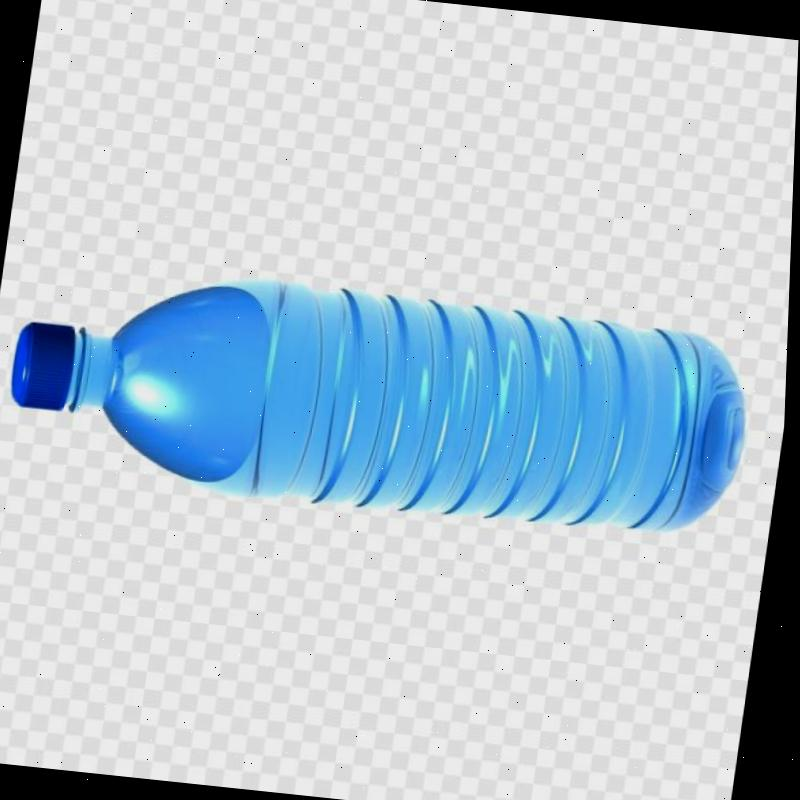botella: (0, 251, 766, 548)
